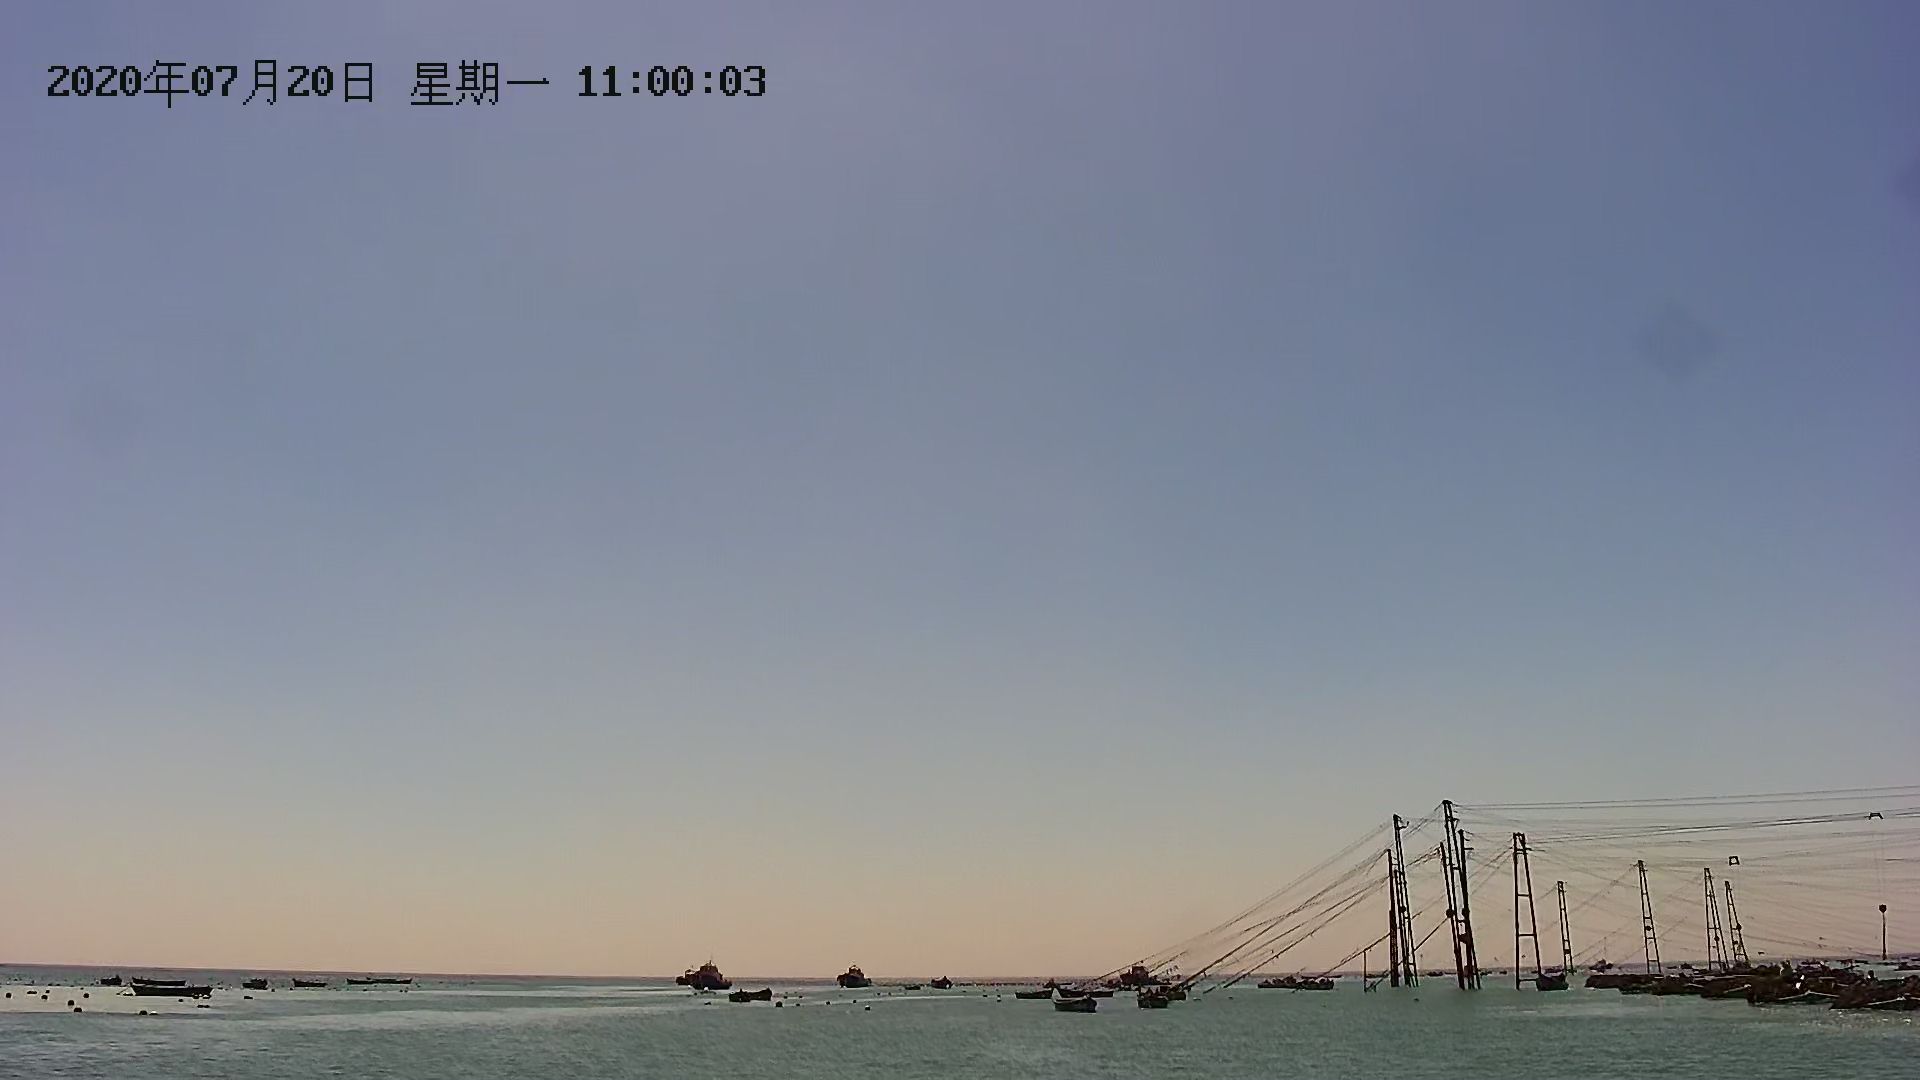boat: (125, 977, 216, 998), (1050, 992, 1101, 1017), (728, 982, 781, 1004)
mast: (1435, 796, 1487, 994), (1507, 825, 1549, 989), (1383, 814, 1422, 989), (1631, 849, 1669, 982), (1720, 880, 1760, 977), (1698, 861, 1731, 978), (1555, 872, 1585, 984)
rubbish: (1615, 967, 1913, 1007), (682, 959, 720, 992)
ship: (833, 957, 874, 992)
